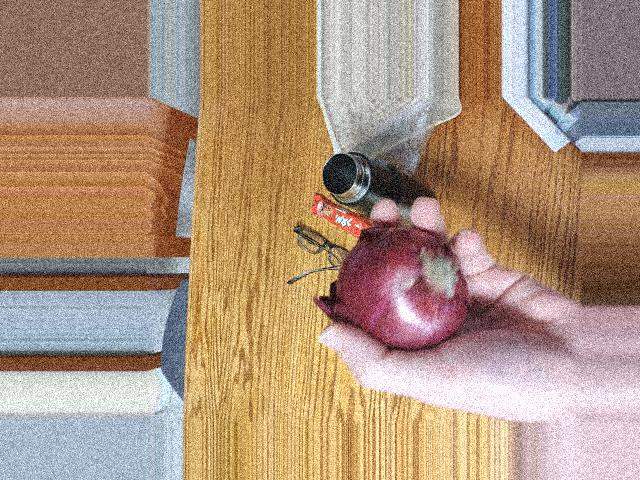onion: (340, 230, 461, 347)
